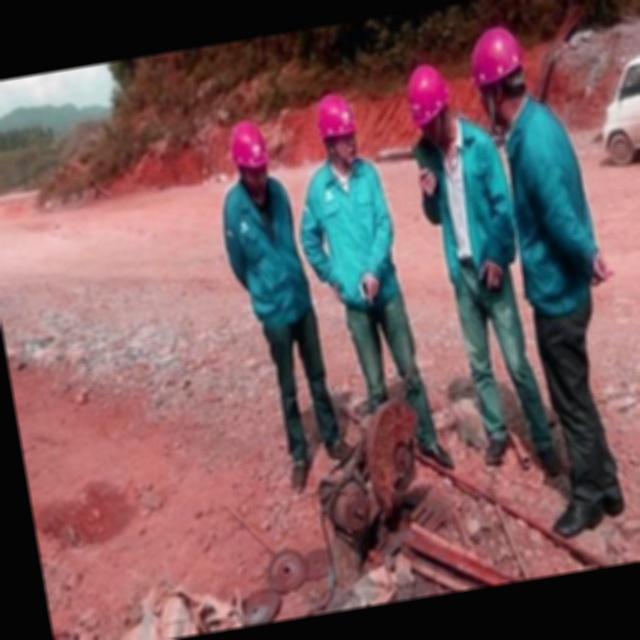Con_Casco: (403, 57, 457, 143), (309, 89, 362, 168)
